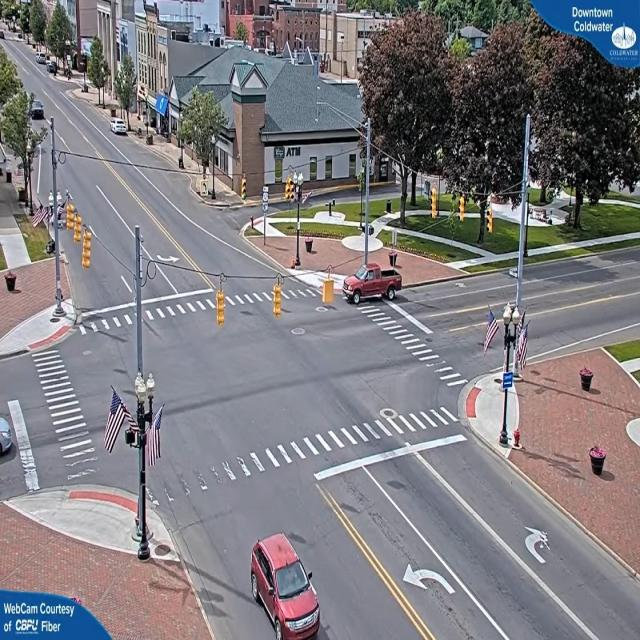car: (248, 534, 323, 640), (342, 264, 400, 306), (111, 120, 130, 138), (32, 102, 46, 122)
